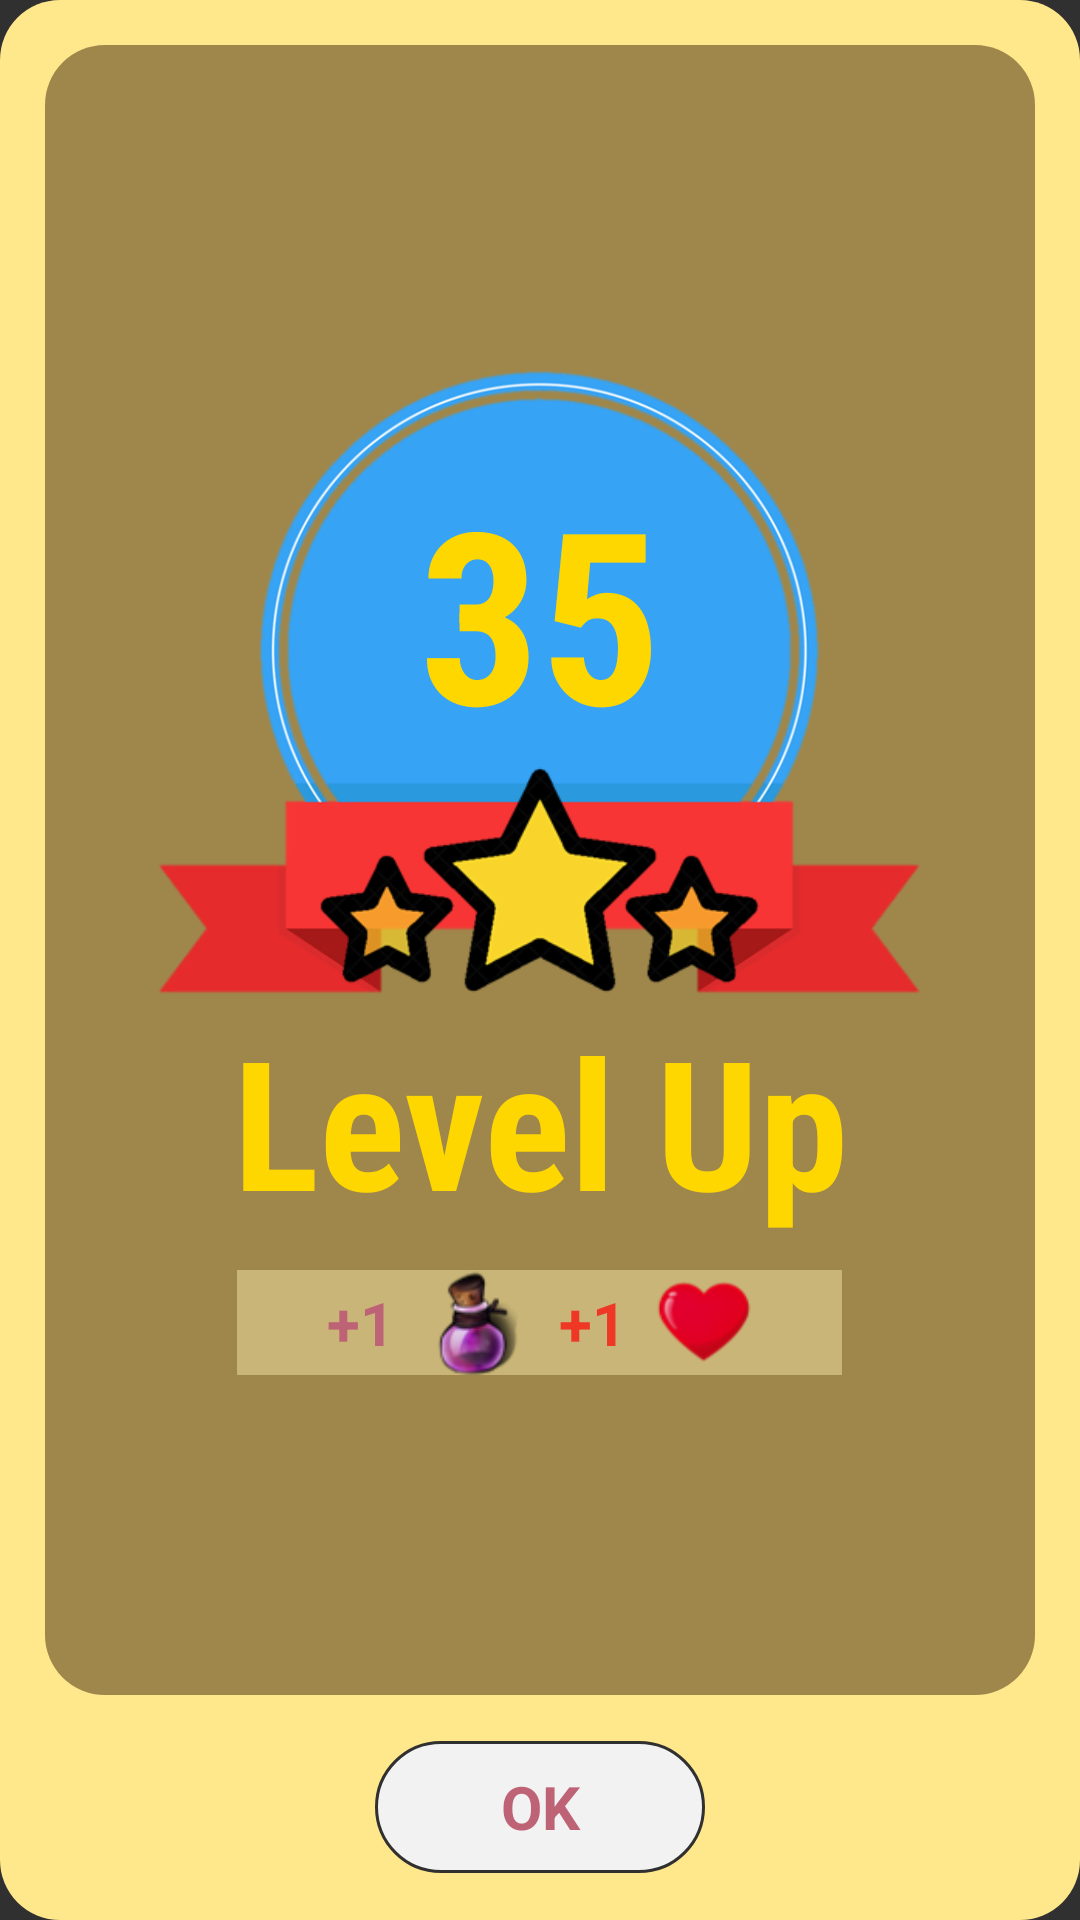

Locate icon controls on the screen. Image size 1080*1920, boxes as (x1, y1, x2, y2).
exir: (439, 1272, 516, 1375)
heart: (658, 1282, 750, 1361)
